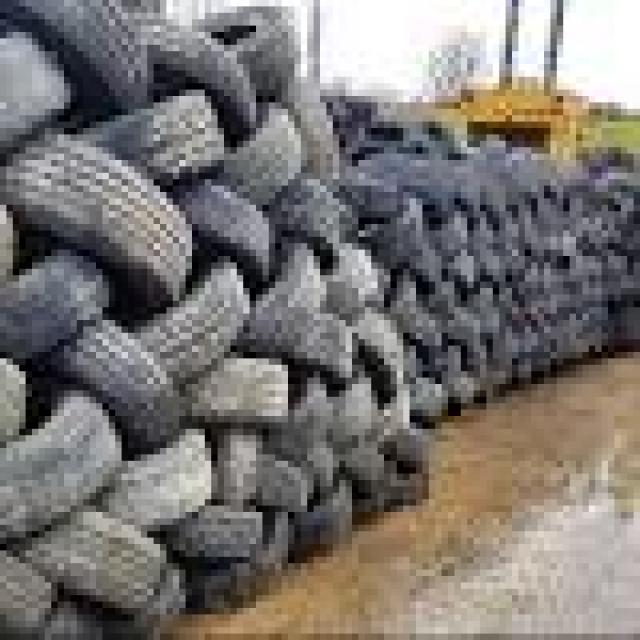Rubber -Non-Biodegradable but Recyclable-: (0, 2, 640, 633)
